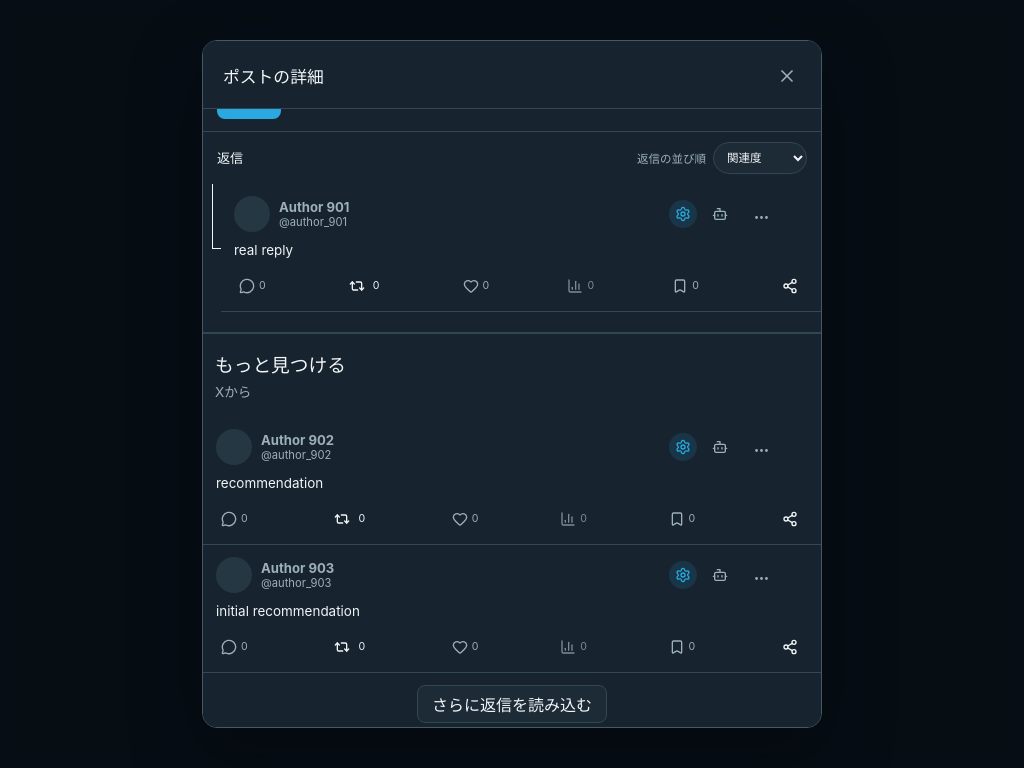
Test: keeps related posts separate across pages and nested navigation
(page scrolled)
Expected: the text "recommendation" is shown, [216, 475, 323, 491]
Expected: the element with test id "detail-related-posts" shows "もっと見つける", [215, 354, 346, 377]
Click the button "さらに返信を読み込む".
click(512, 704)  # box [417, 684, 607, 722]
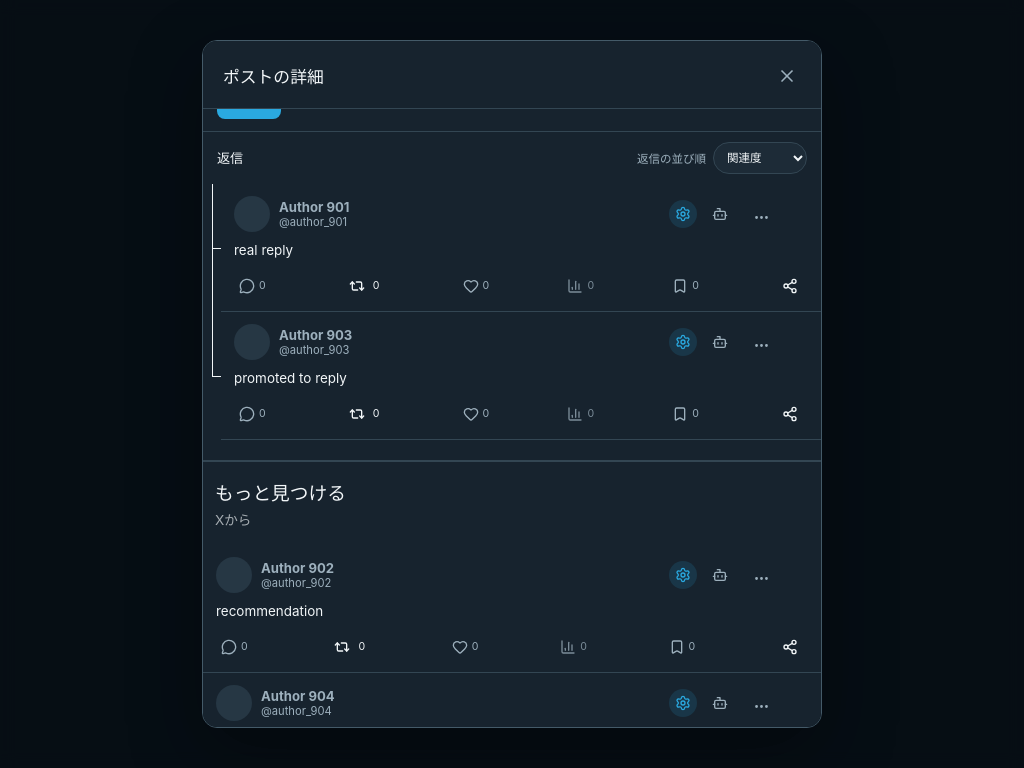
Expected: the number of elements with class "reply-thread-item" is 2, [203, 184, 821, 312]; [203, 312, 821, 440]
Expected: the text "initial recommendation" is gone
Click the text "recommendation".
click(270, 611)  # box [216, 603, 323, 619]
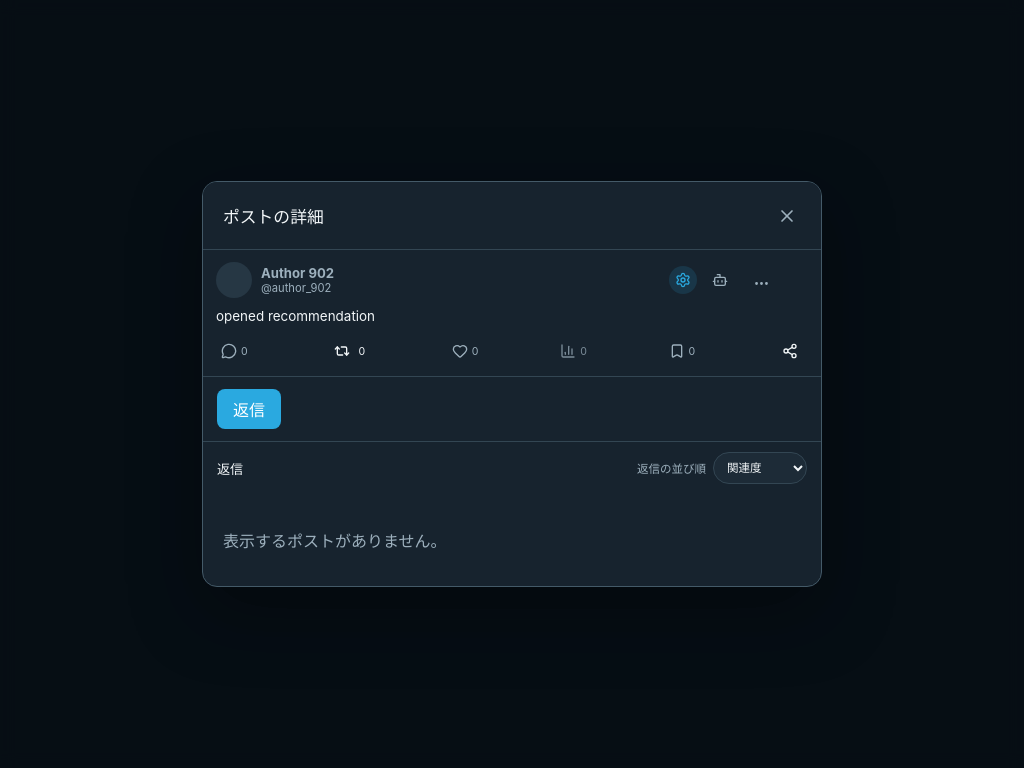
Expected: the text "opened recommendation" is shown, [216, 308, 375, 324]
Press Escape
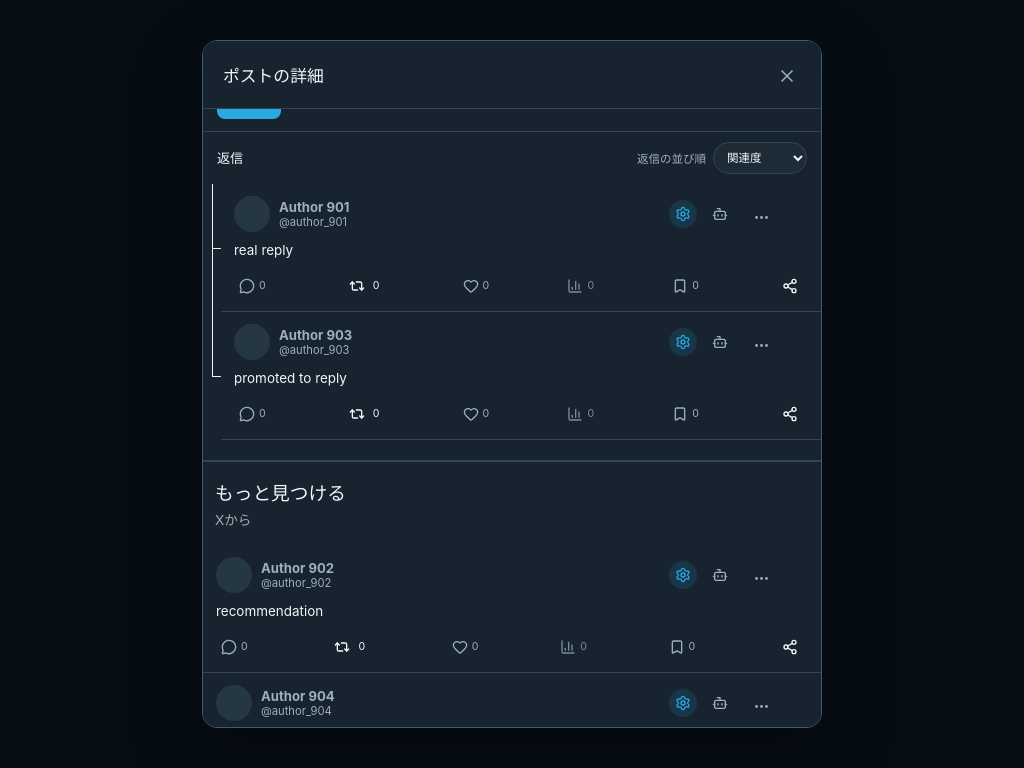
Expected: the number of elements with class "reply-thread-item" is 2, [203, 184, 821, 312]; [203, 312, 821, 440]
